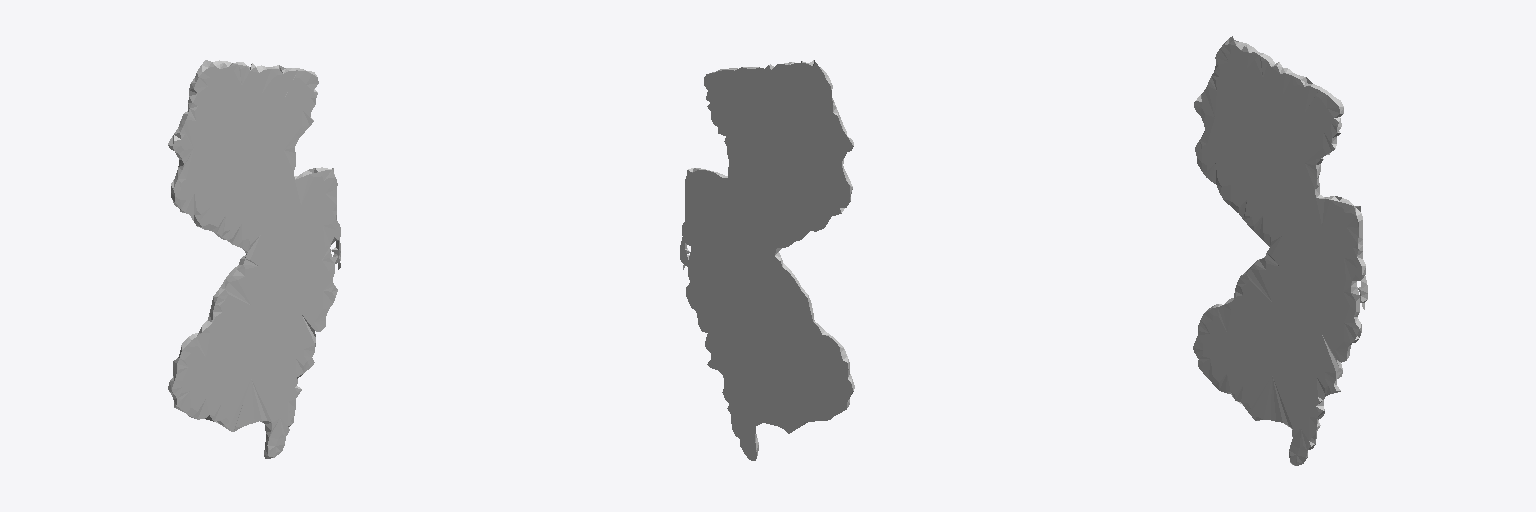
File: NewJersey.obj
The picture shows the model from 3 angles: view 1: azimuth 30°, elevation 25°; view 2: azimuth 150°, elevation 25°; view 3: azimuth 330°, elevation 25°; orthographic projection.
Parts seen in each view (by area): view 1: NewJersey.001; view 2: NewJersey.001; view 3: NewJersey.001.
Part boxes in pixels (bbox=[...]): NewJersey.001: bbox=[168, 60, 340, 458]; NewJersey.001: bbox=[680, 60, 854, 460]; NewJersey.001: bbox=[1193, 36, 1367, 465].
Size of the model in its own units: 39.78 by 90.67 by 1.18.